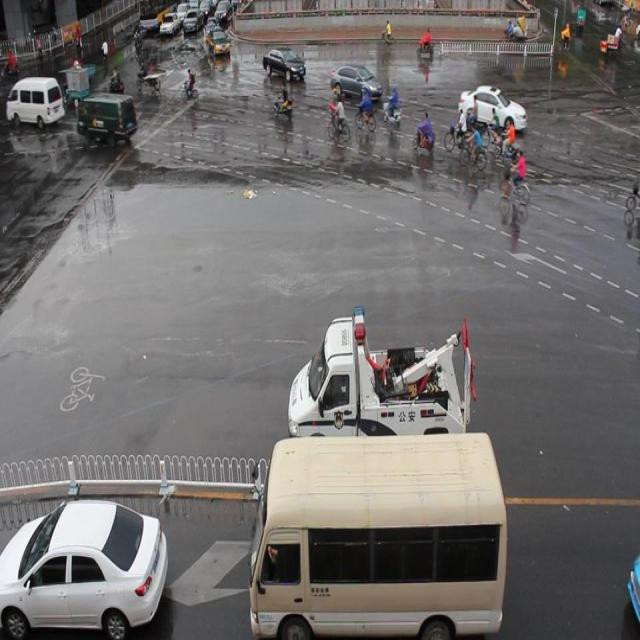bus: (288, 303, 475, 459)
car: (0, 494, 168, 640), (458, 81, 526, 135), (330, 62, 382, 105), (260, 45, 306, 81), (208, 27, 231, 60)
truck: (248, 430, 507, 640)
